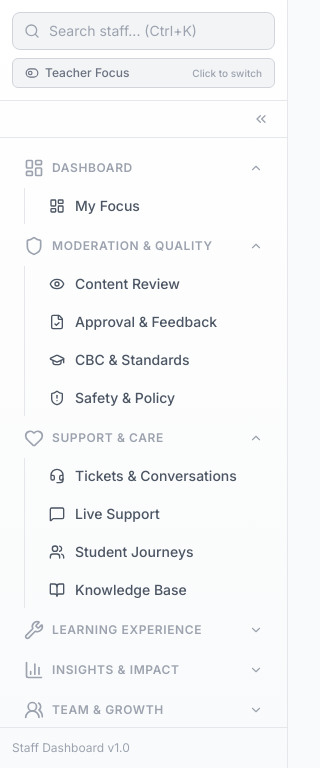
Test: StaffSidebar › expands a closed section on click
Expected: the text "Platform Health" is not shown
# Click the section header to open it
Click the button "INSIGHTS & IMPACT".
click(144, 670)  # box x1=12 y1=652 x2=275 y2=688
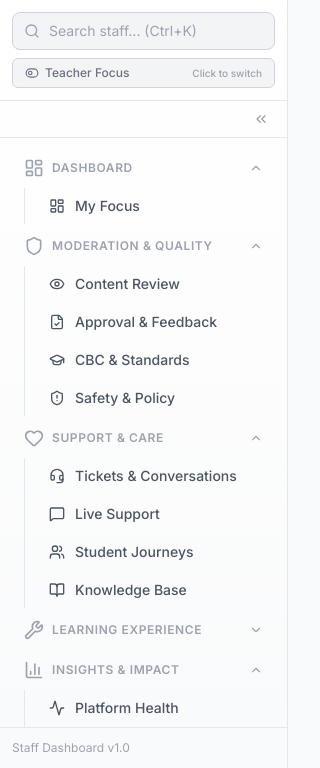
Expected: the text "Platform Health" is shown, x1=75 y1=698 x2=179 y2=718
